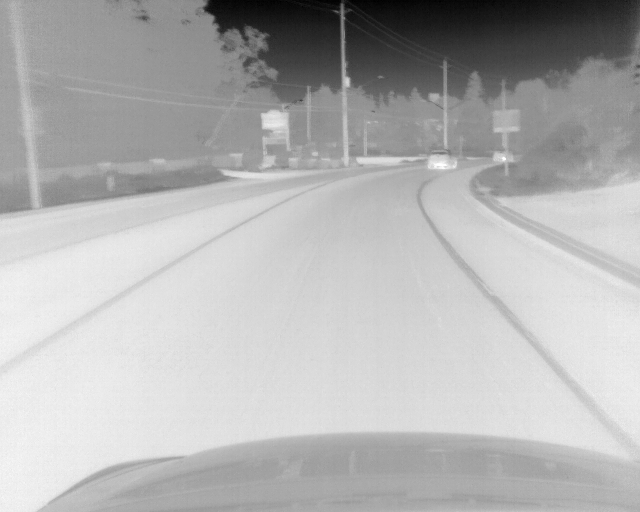car: (427, 149, 457, 171), (492, 150, 508, 163)
